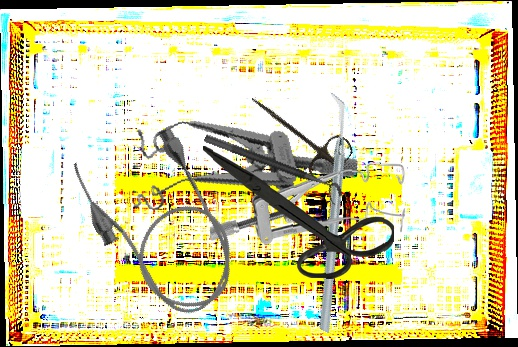Cannula: (62, 113, 257, 336)
Chopper: (229, 91, 431, 335)
Fixation Ring: (199, 133, 346, 207)
Iris Scissors: (200, 146, 396, 280), (236, 80, 357, 188)
Speculum: (112, 78, 363, 232), (209, 155, 407, 251)
